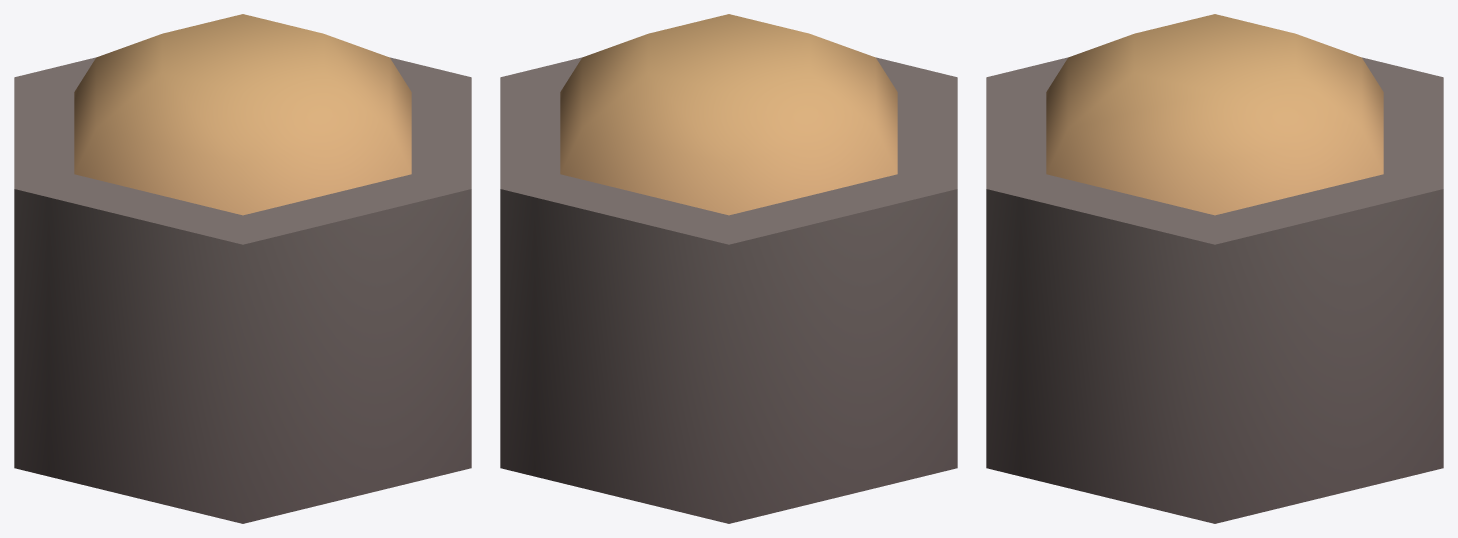
The model's file is maki-roe.glb.
The picture shows the model from 3 angles, left to right: view 1: azimuth 30°, elevation 25°; view 2: azimuth 150°, elevation 25°; view 3: azimuth 270°, elevation 25°; orthographic projection.
Parts seen in each view (by area): view 1: maki-roe; view 2: maki-roe; view 3: maki-roe.
Part boxes in pixels (x1=…): maki-roe: x1=14, y1=14, x2=471, y2=523; maki-roe: x1=500, y1=14, x2=957, y2=523; maki-roe: x1=986, y1=14, x2=1443, y2=523.
Bounding box in the file's own units: 0.12 × 0.09 × 0.1039.
